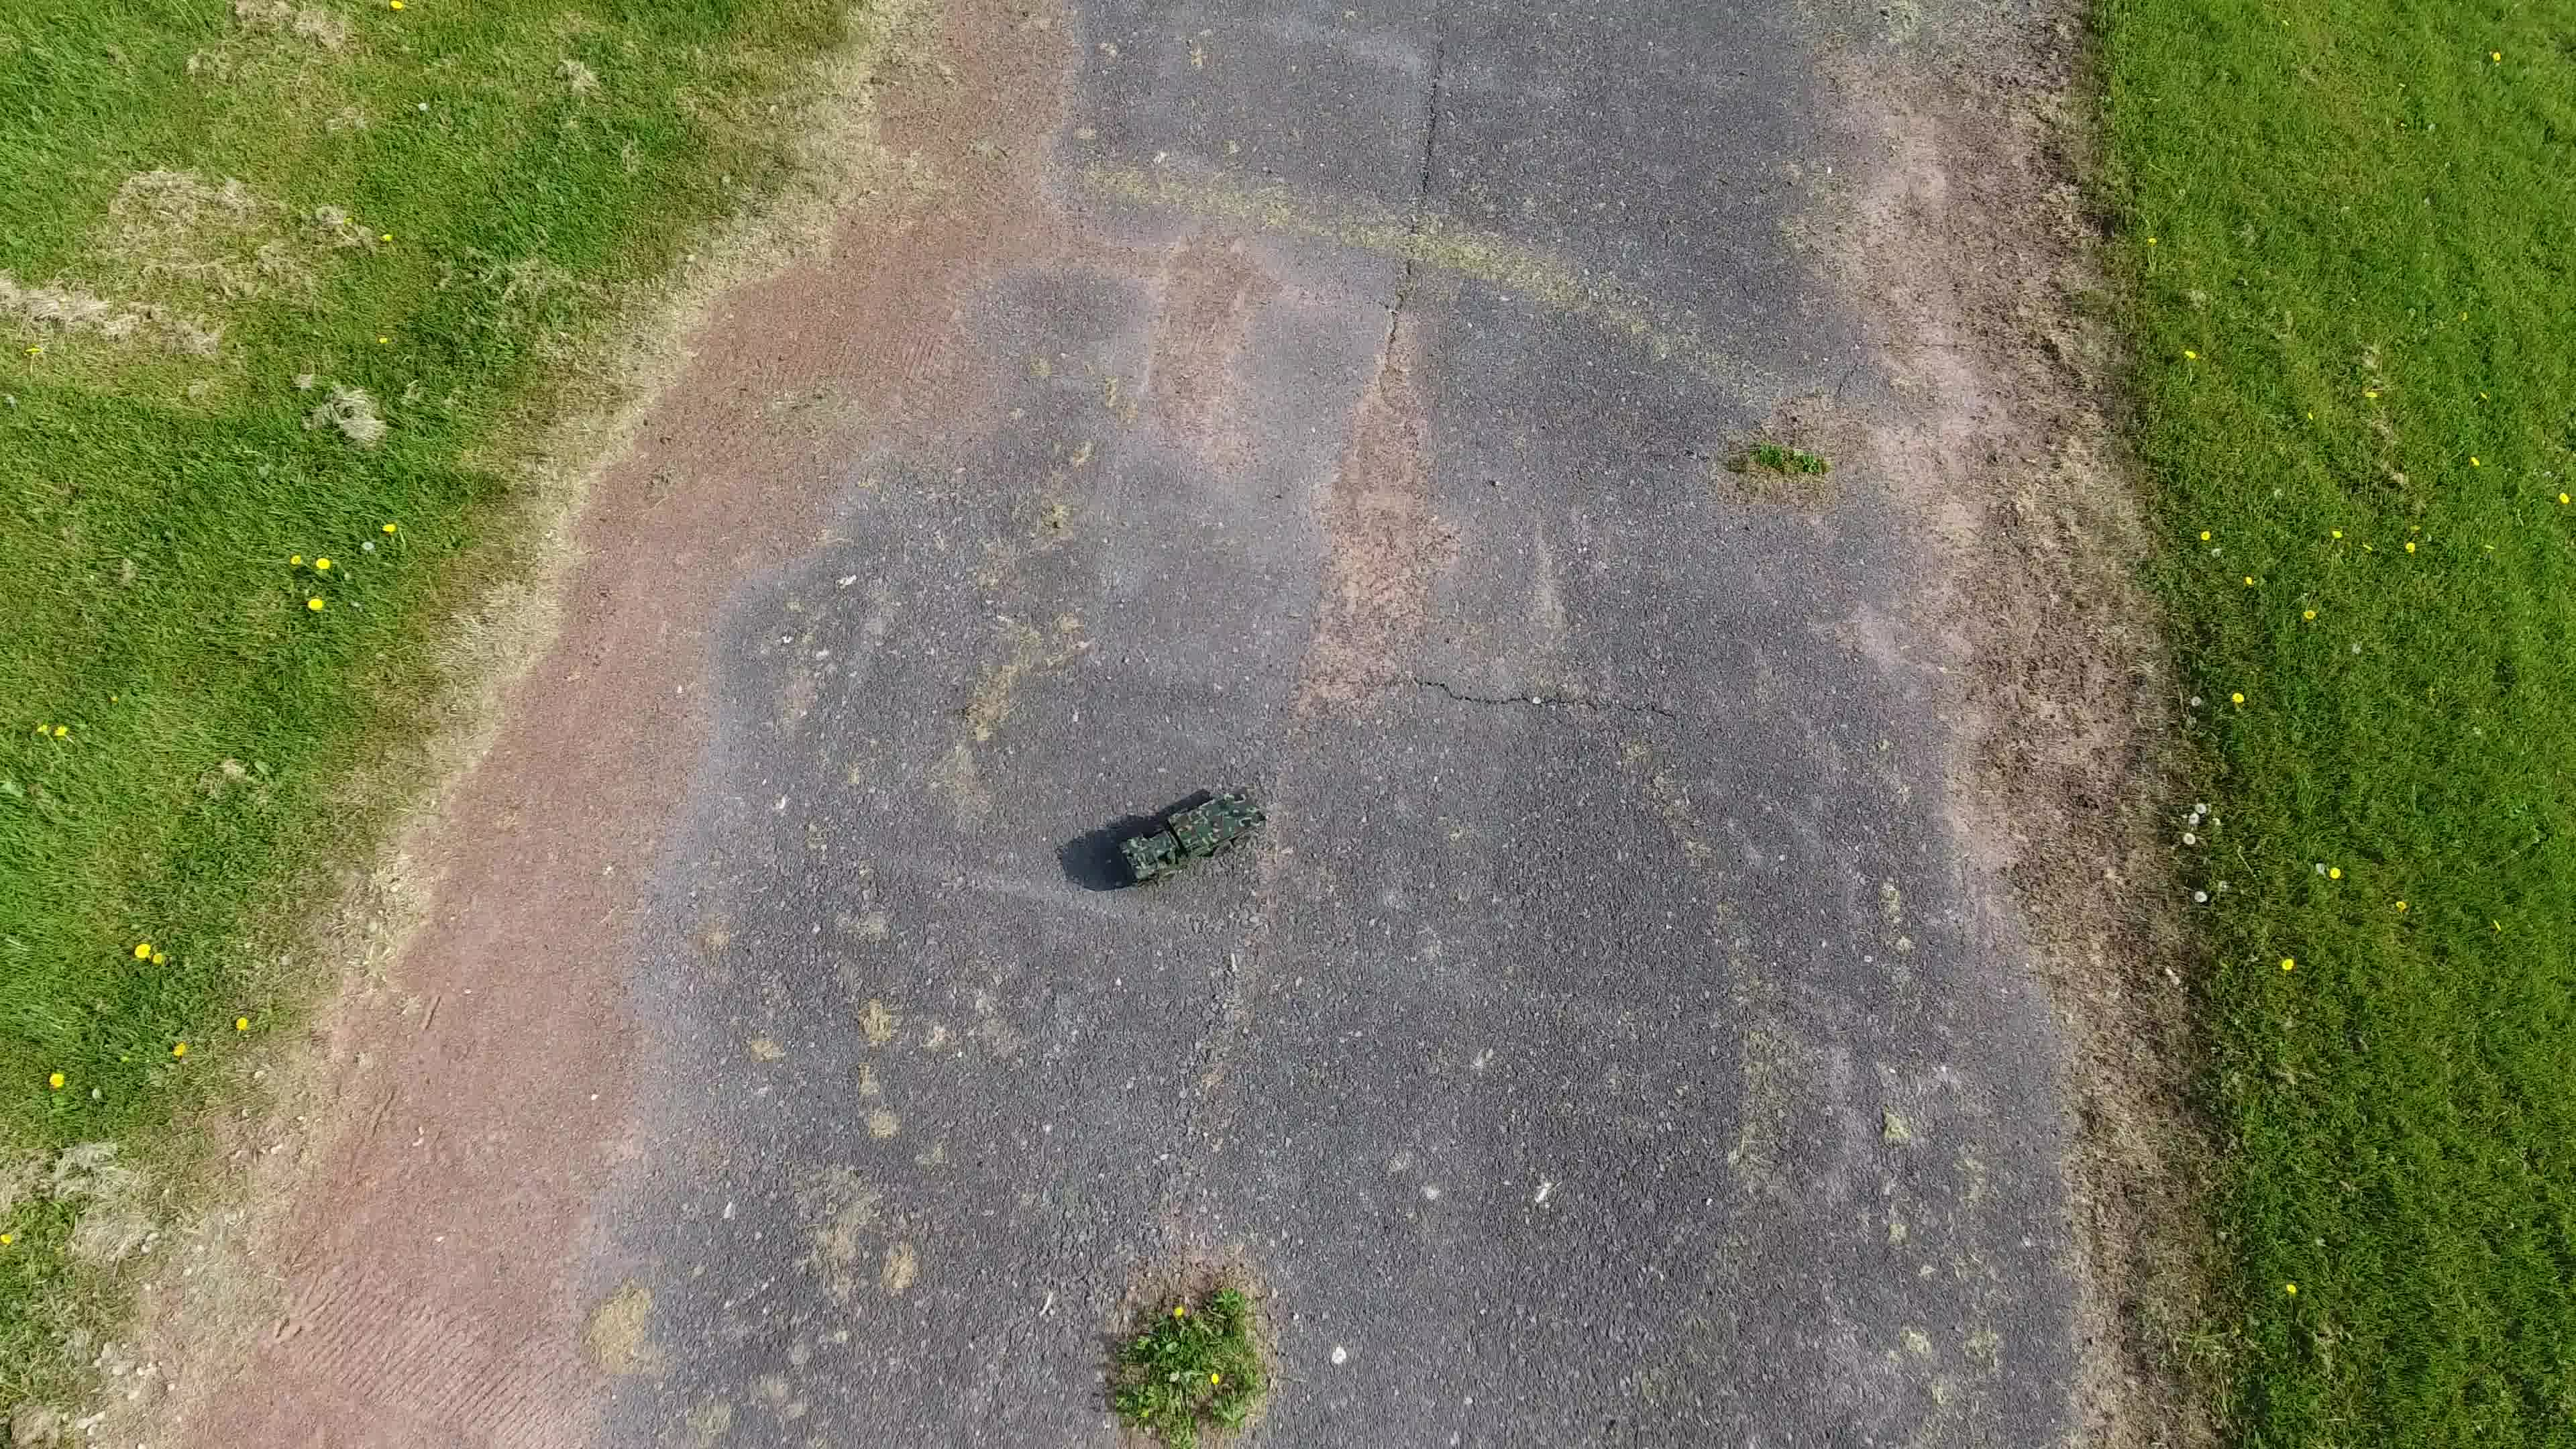transporter9: (1116, 786, 1270, 890)
